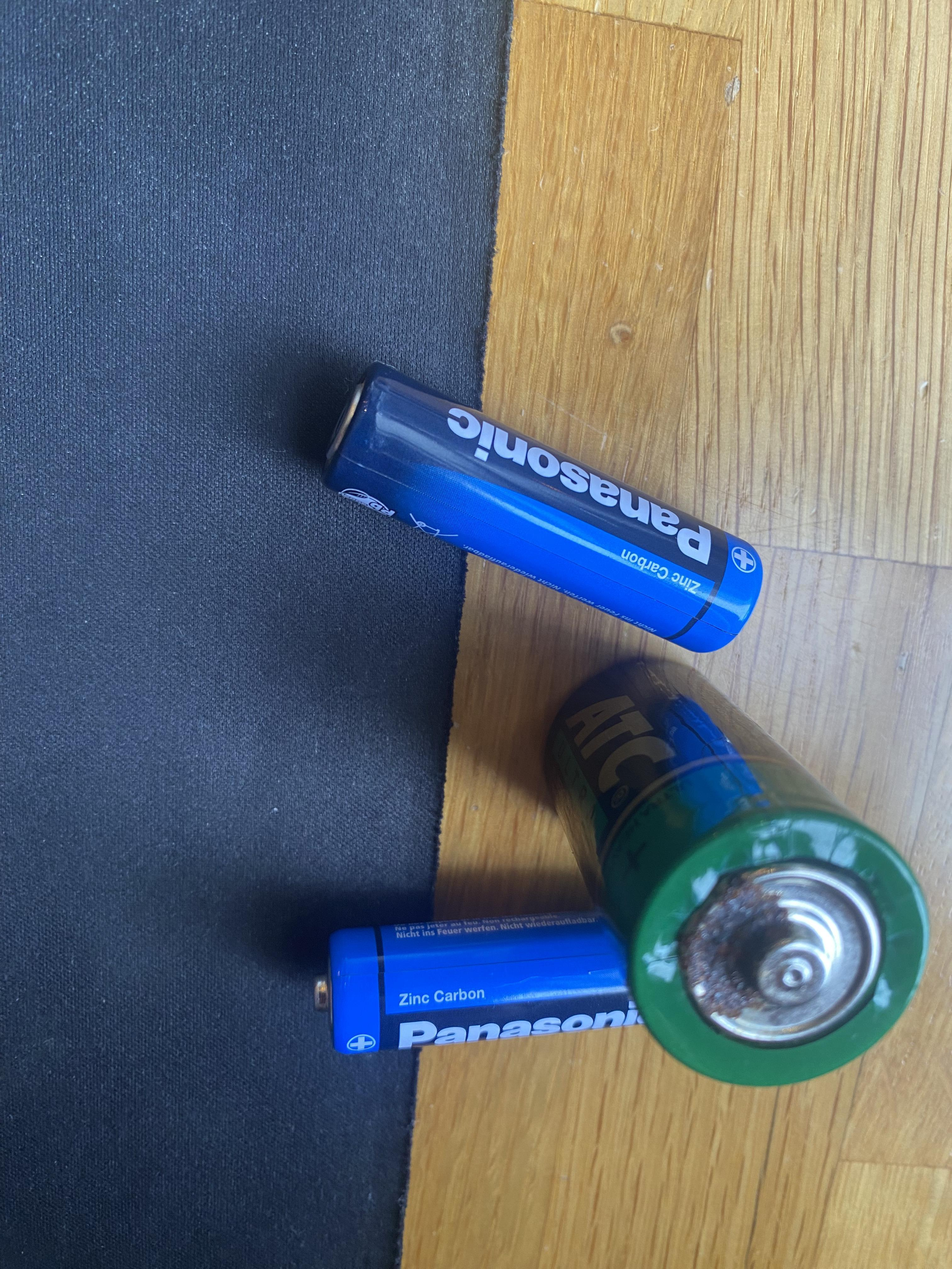AA: (317, 354, 769, 662)
